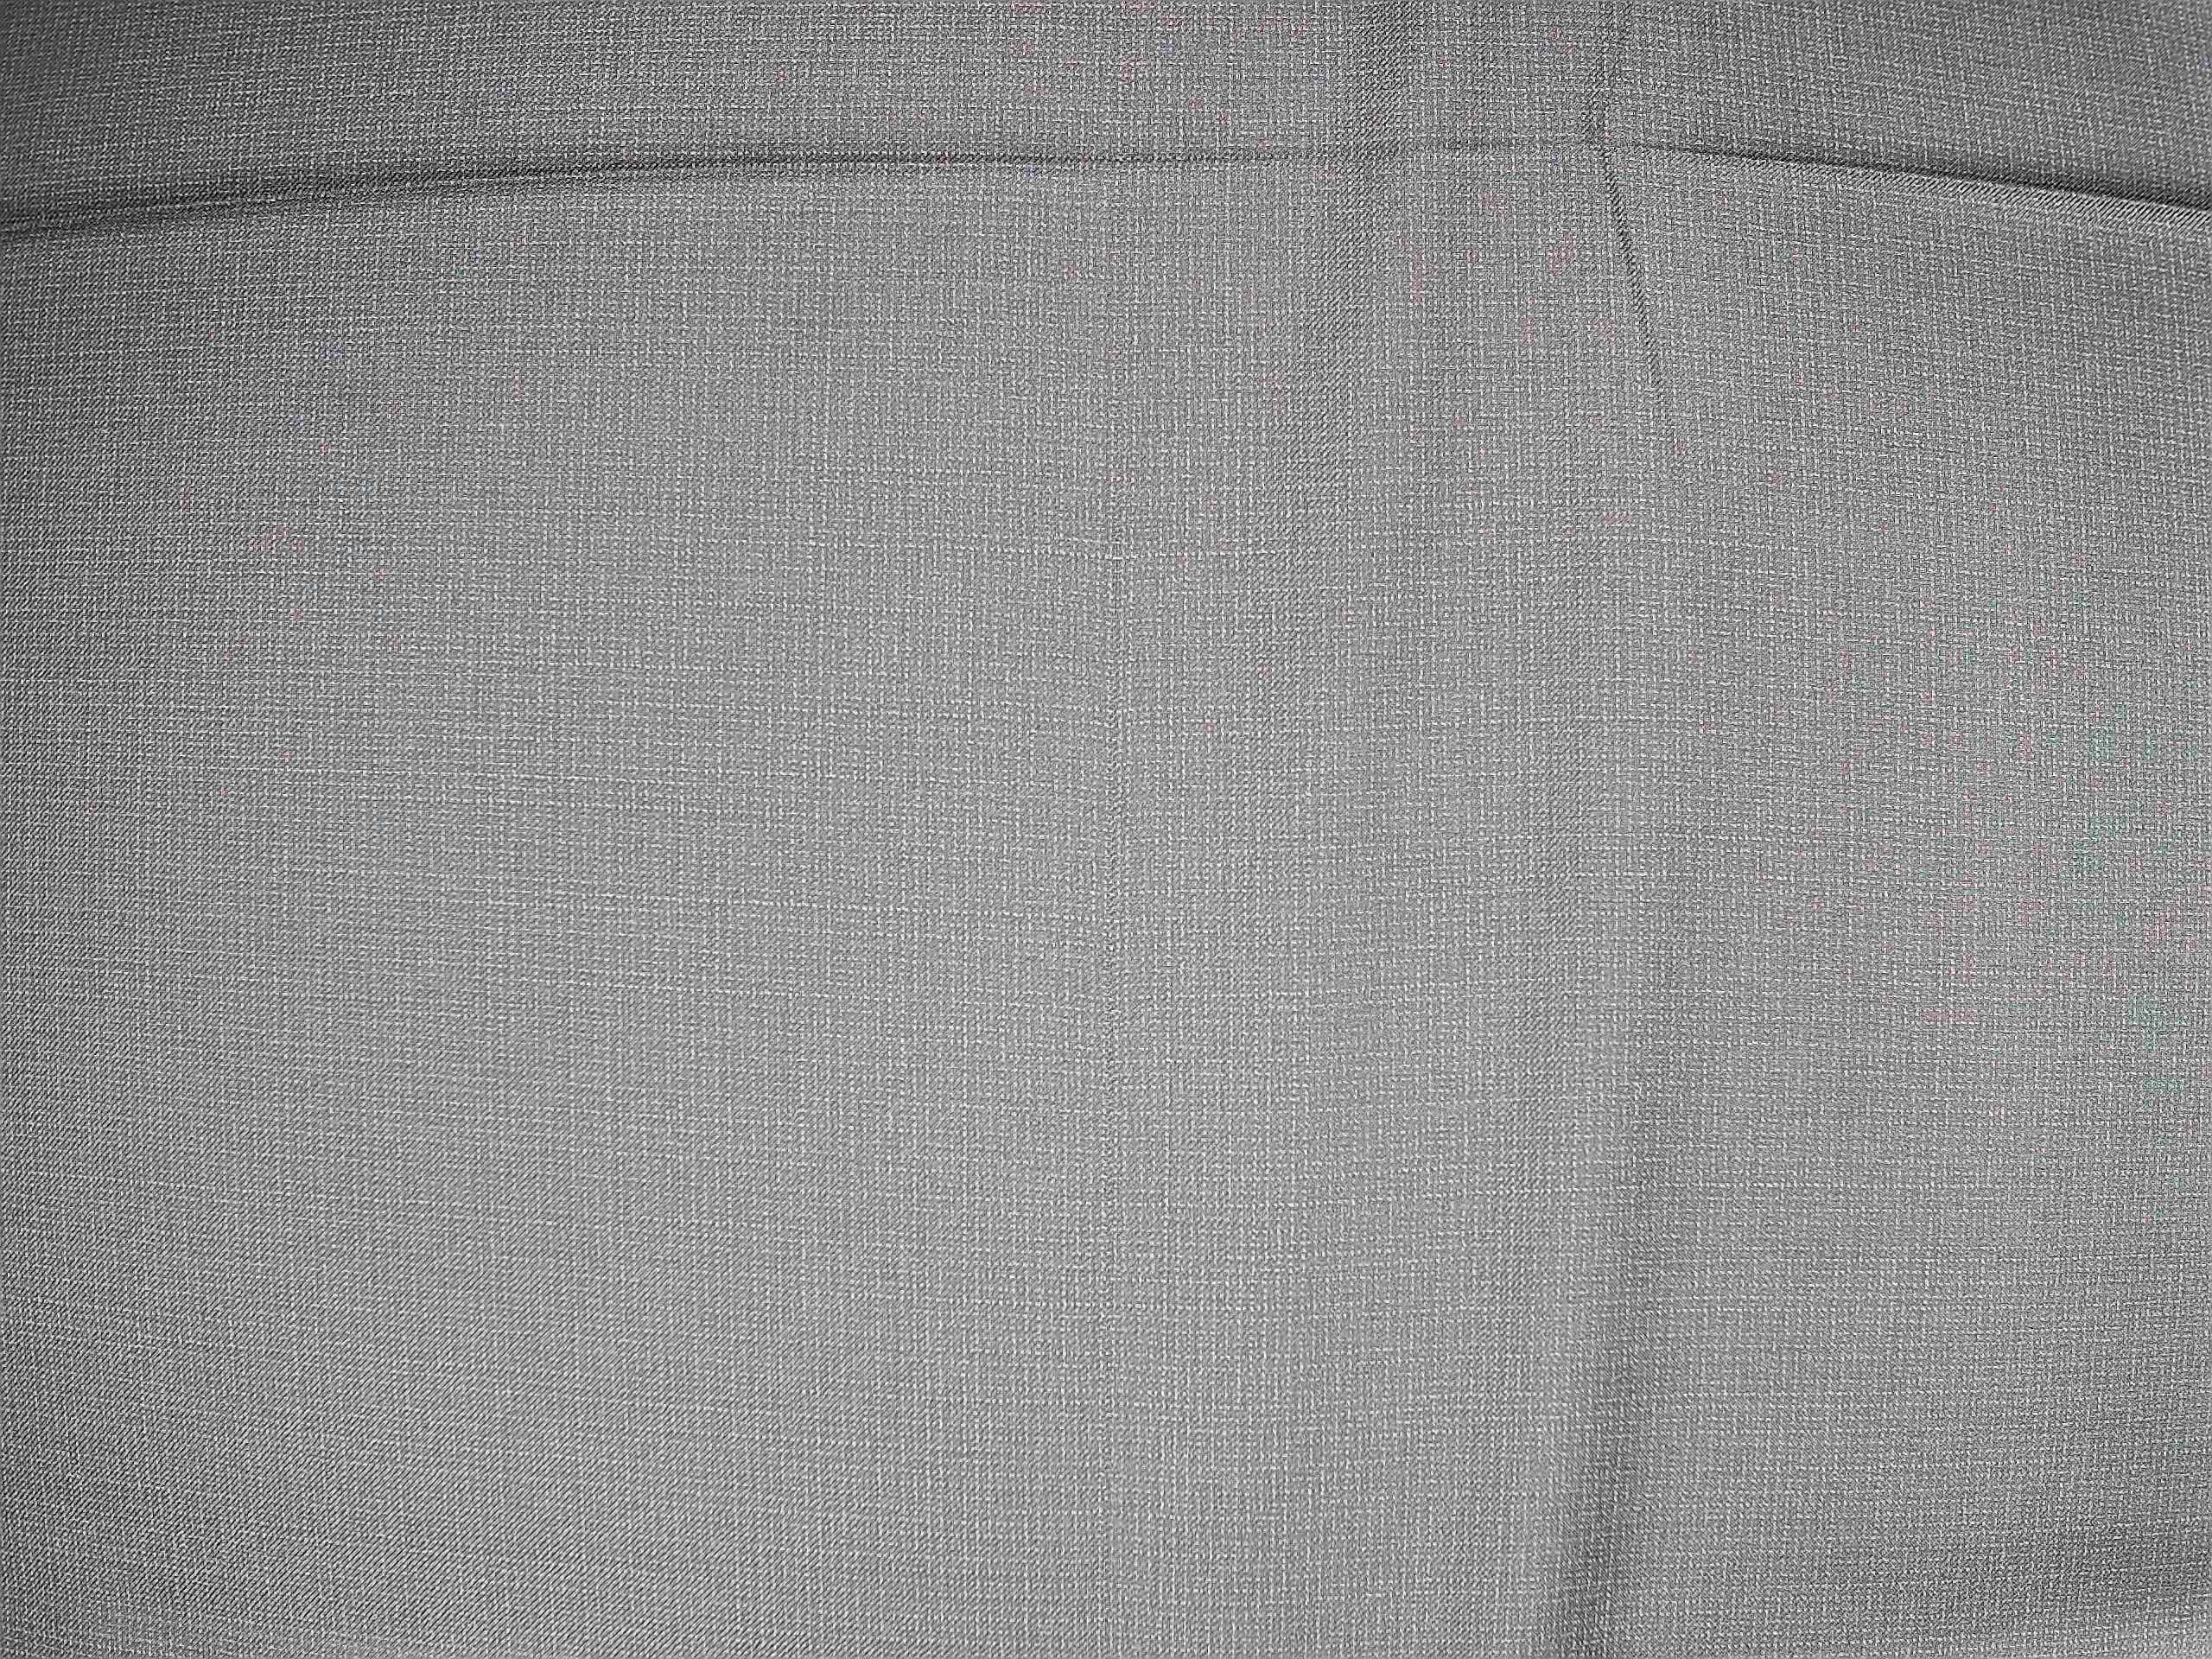hanging-warp: (1096, 321, 1132, 1220)
